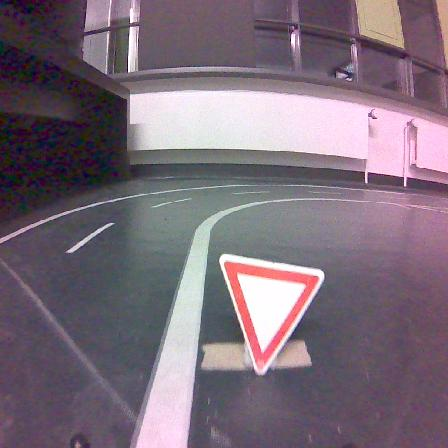GIVE_WAY: (219, 254, 323, 374)
